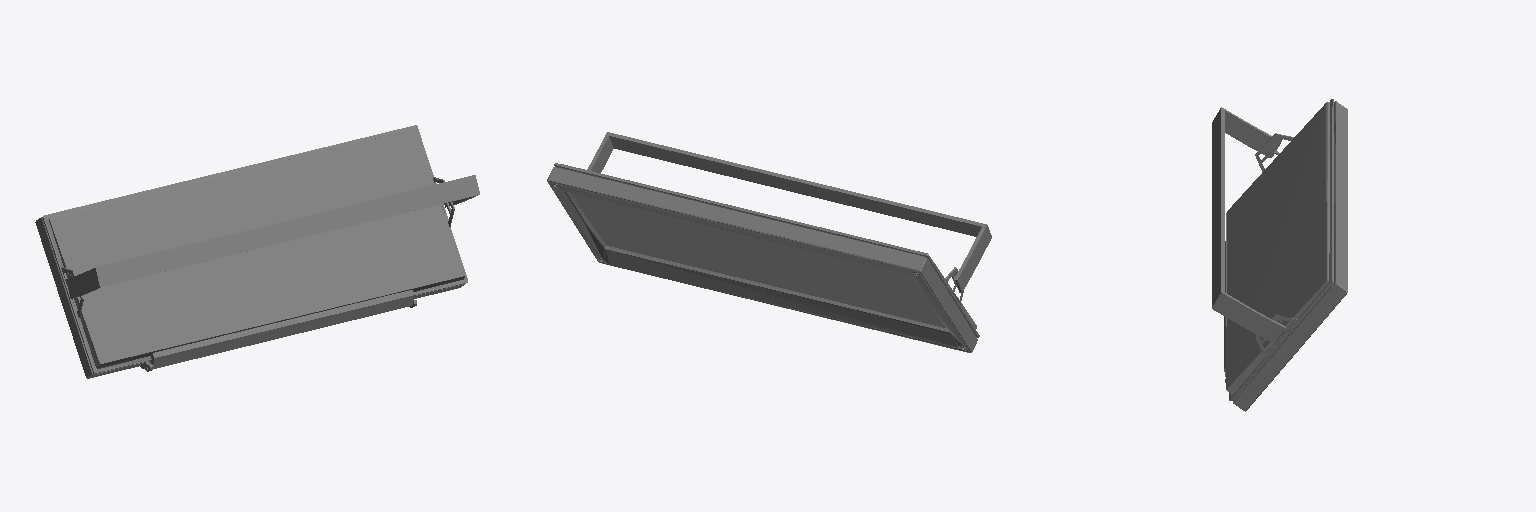
Rendered from zhaoming.obj.
3 views of the same model, side by side, from view 1: azimuth 30°, elevation 25°; view 2: azimuth 150°, elevation 25°; view 3: azimuth 270°, elevation 25° (orthographic).
Parts seen in each view (by area): view 1: zhaoming; view 2: zhaoming; view 3: zhaoming.
Part boxes in pixels (x1,y1,x2,y2): zhaoming: (35, 125, 479, 378); zhaoming: (547, 132, 991, 352); zhaoming: (1212, 99, 1347, 411).
Size of the model in its own units: 1027 by 344 by 320.